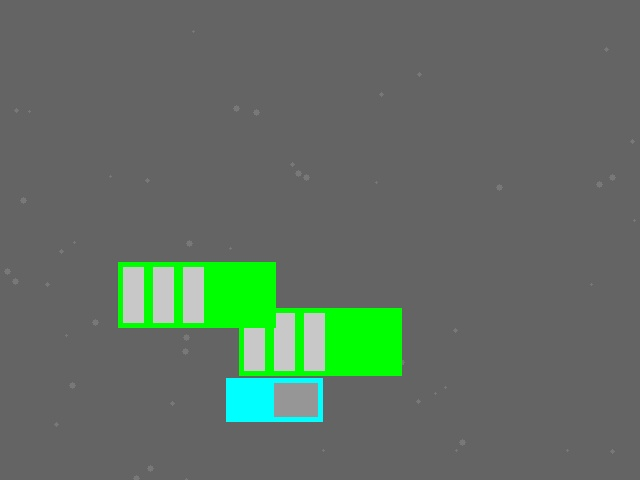bus: (239, 308, 401, 375), (118, 262, 275, 327)
truck: (226, 378, 322, 421)
